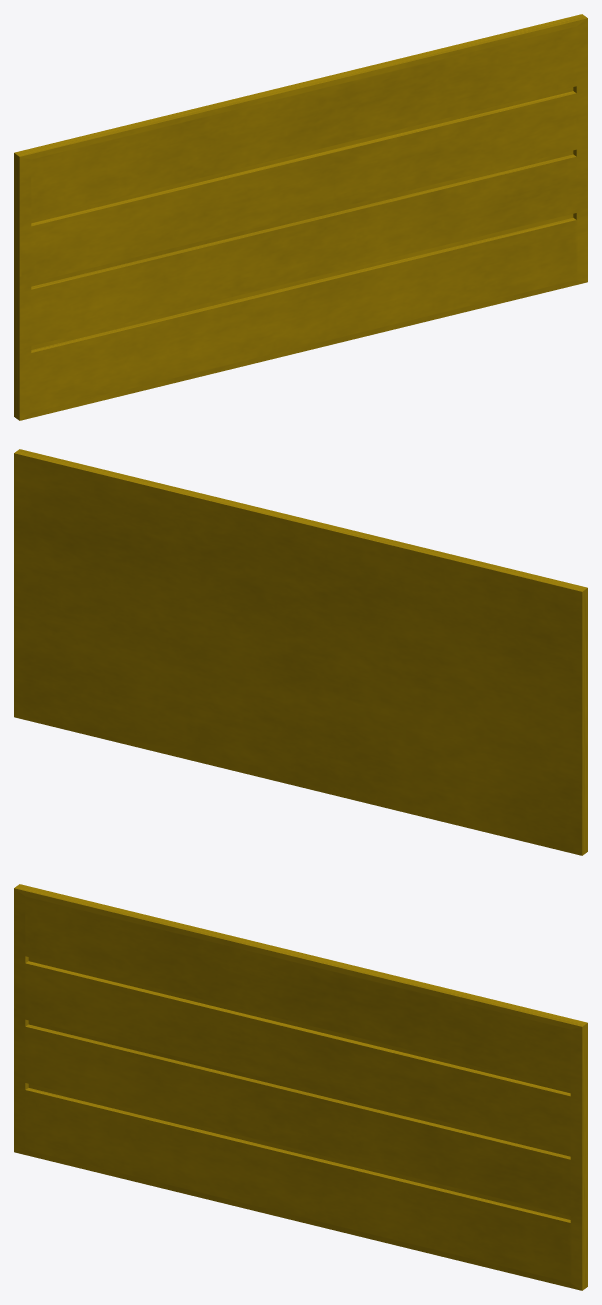
File: Plaque.fbx
3 renders of one model, top to bottom at view 1: azimuth 30°, elevation 25°; view 2: azimuth 150°, elevation 25°; view 3: azimuth 330°, elevation 25°, orthographic.
Parts seen in each view (by area): view 1: Cube.001; view 2: Cube.001; view 3: Cube.001.
Boxes of the visible parts, x1,y1,x2,y2 form: Cube.001: (14,14,587,420); Cube.001: (14,449,587,855); Cube.001: (14,884,587,1290).
Size of the model in its own units: 200 by 3.55 by 88.8.
1 material, 1 textured.
